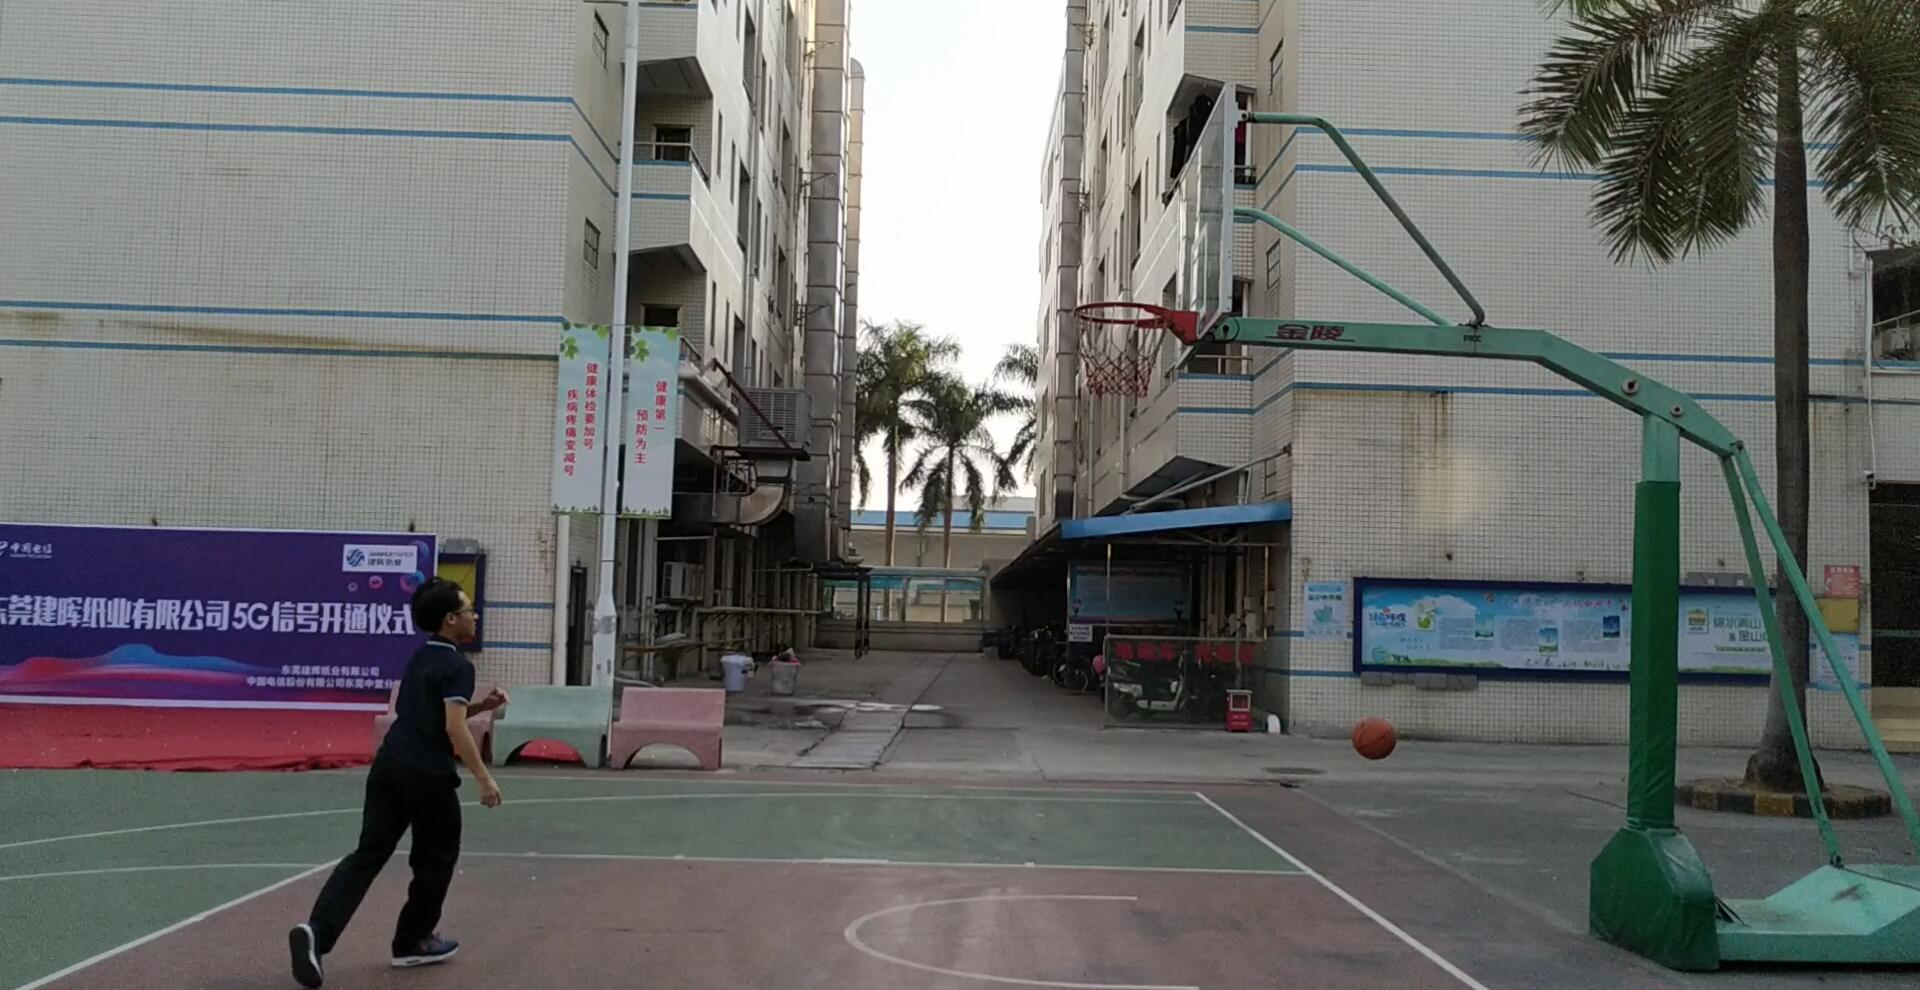basketball: (1352, 708, 1401, 763)
